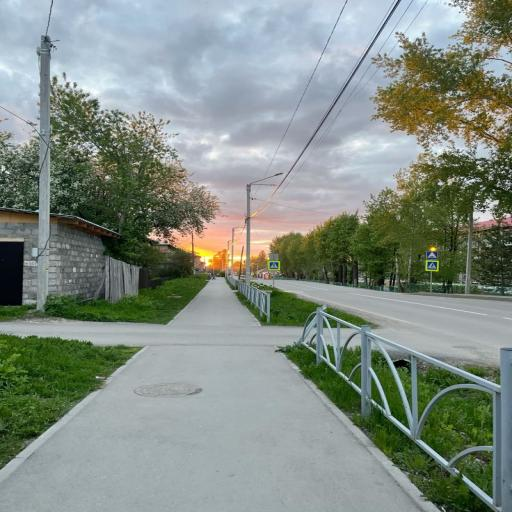elevator: (37, 36, 51, 311), (246, 184, 251, 286)
glass_wall: (0, 279, 433, 512), (241, 278, 512, 372)
